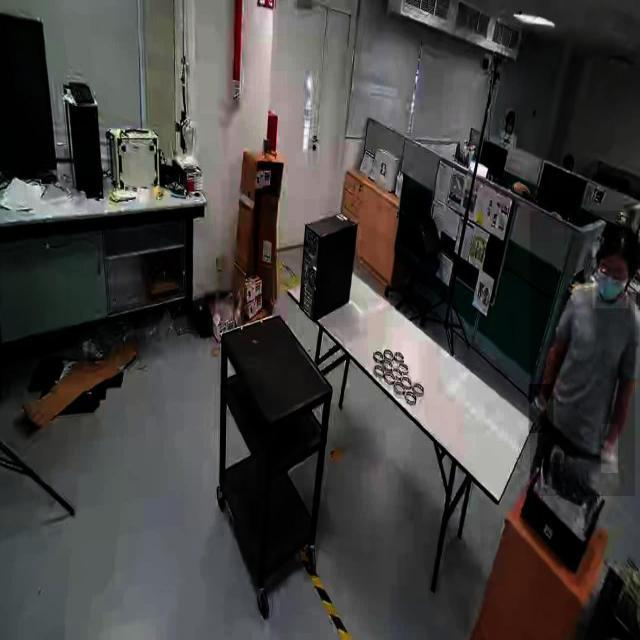gloves: (528, 384, 554, 434), (601, 424, 619, 474)
